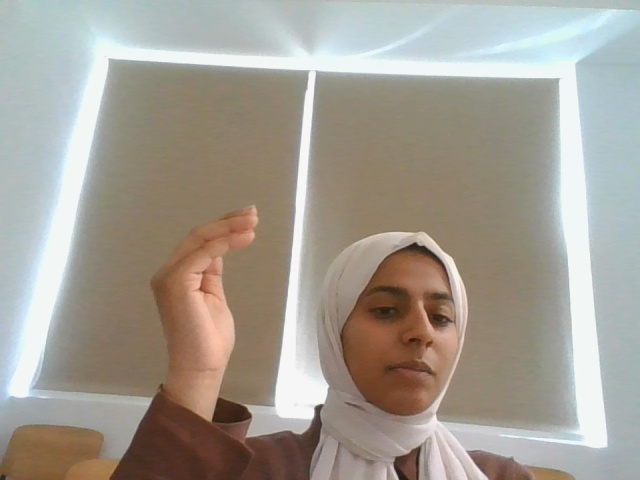morning: (109, 183, 291, 480)
